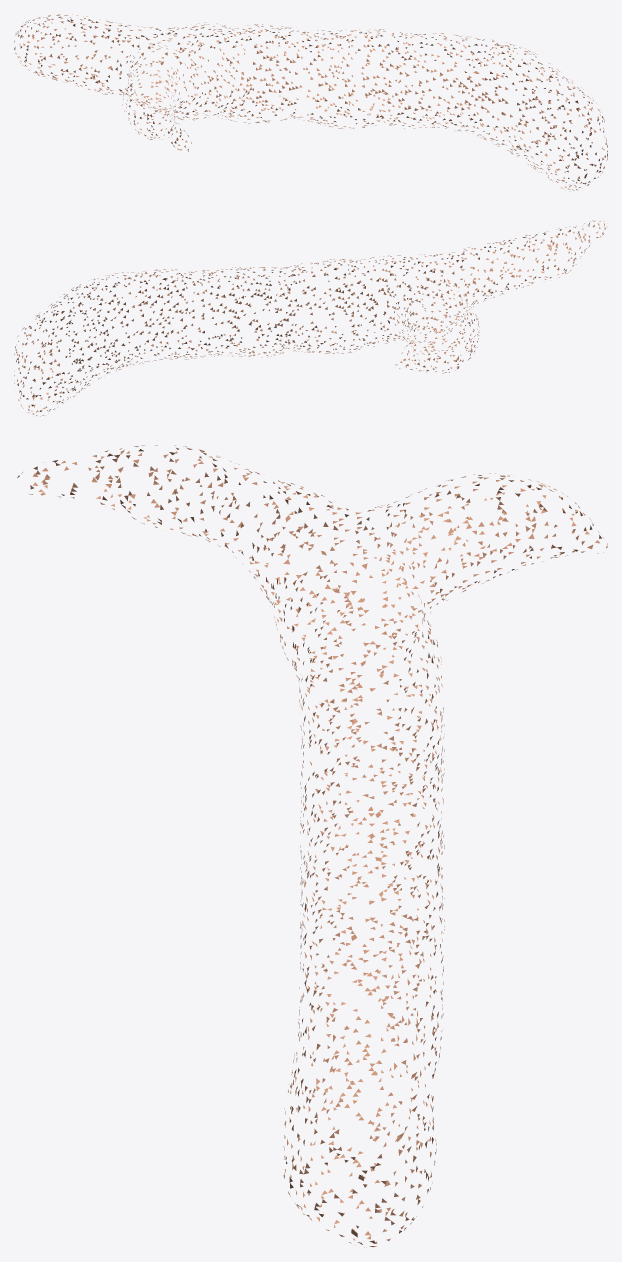
The model's file is morph_004.glb.
3 renders of one model, top to bottom at view 1: azimuth 30°, elevation 25°; view 2: azimuth 150°, elevation 25°; view 3: azimuth 270°, elevation 25°, orthographic. The views are drawn at different scales.
Bounding box in the file's own units: 119 × 57.56 × 73.15.
